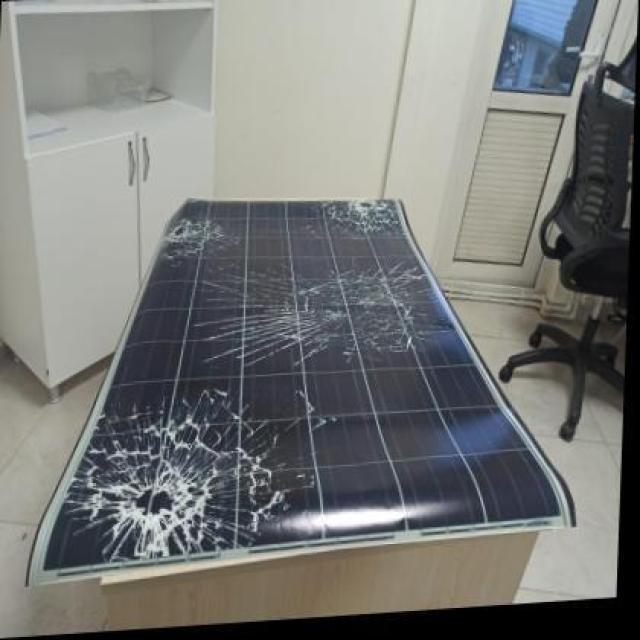cracked: (49, 192, 556, 581)
